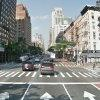Car: (20, 54, 54, 83)
